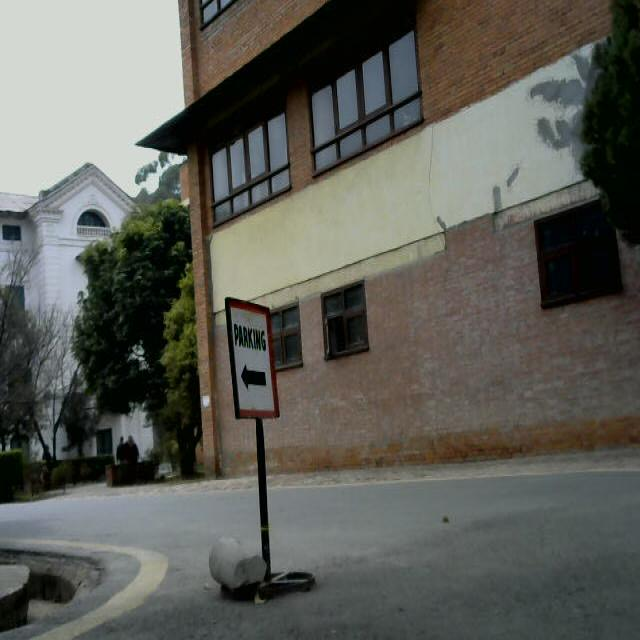Buildings: (181, 2, 640, 465)
Parking: (216, 290, 315, 614)
Road: (1, 473, 640, 640)
trees: (74, 210, 201, 465)
